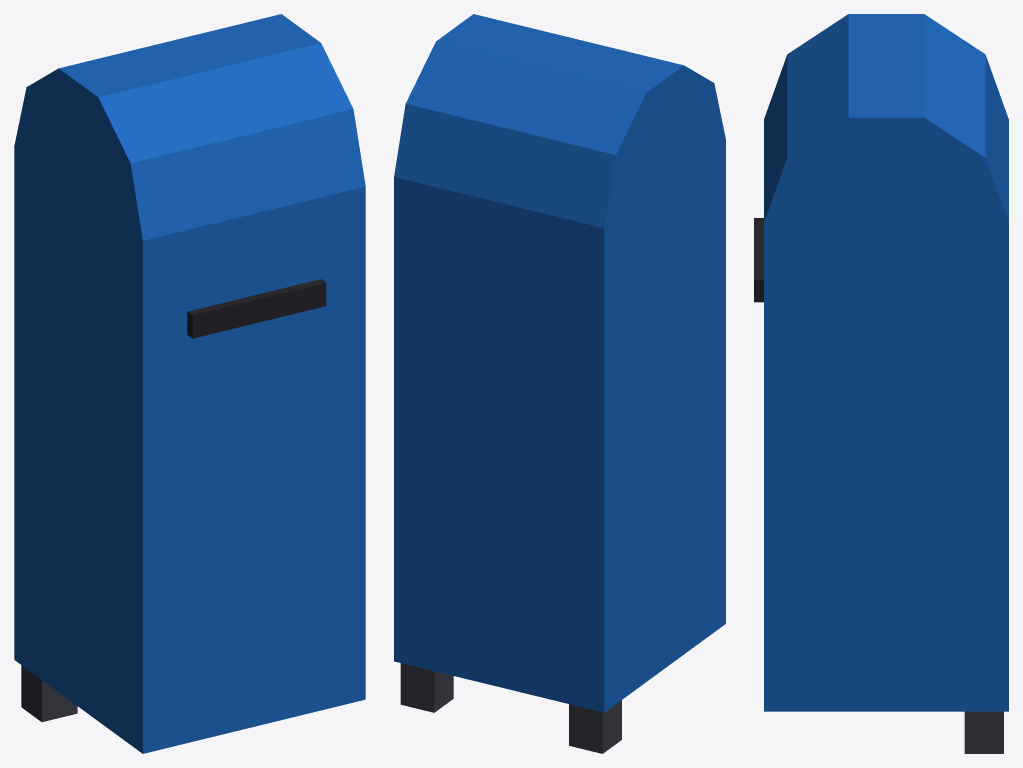
The model's file is mailbox.glb.
3 renders of one model, left to right at view 1: azimuth 30°, elevation 25°; view 2: azimuth 150°, elevation 25°; view 3: azimuth 270°, elevation 25°, orthographic. The views are drawn at different scales.
Parts seen in each view (by area): view 1: mailbox; view 2: mailbox; view 3: mailbox.
Boxes of the visible parts, x1,y1,x2,y2 form: mailbox: [14, 14, 365, 753]; mailbox: [394, 14, 725, 753]; mailbox: [754, 14, 1008, 753].
Bounding box in the file's own units: 0.5 × 1.44 × 0.52.
